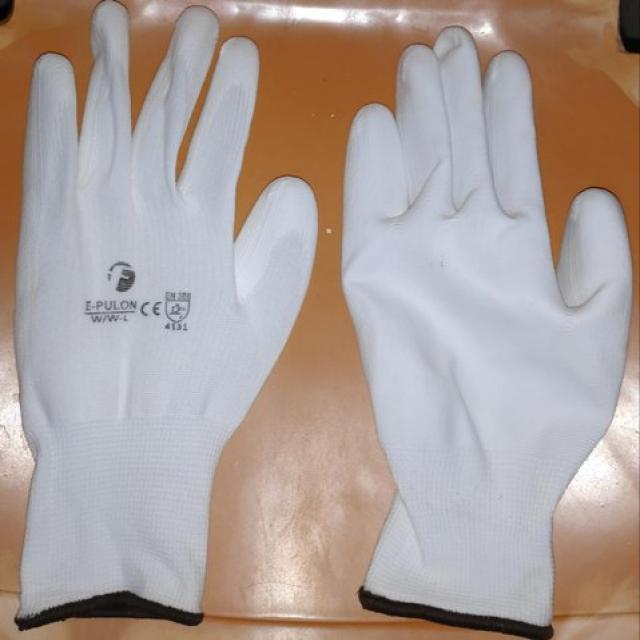gloves: (15, 2, 319, 630), (342, 23, 632, 640)
